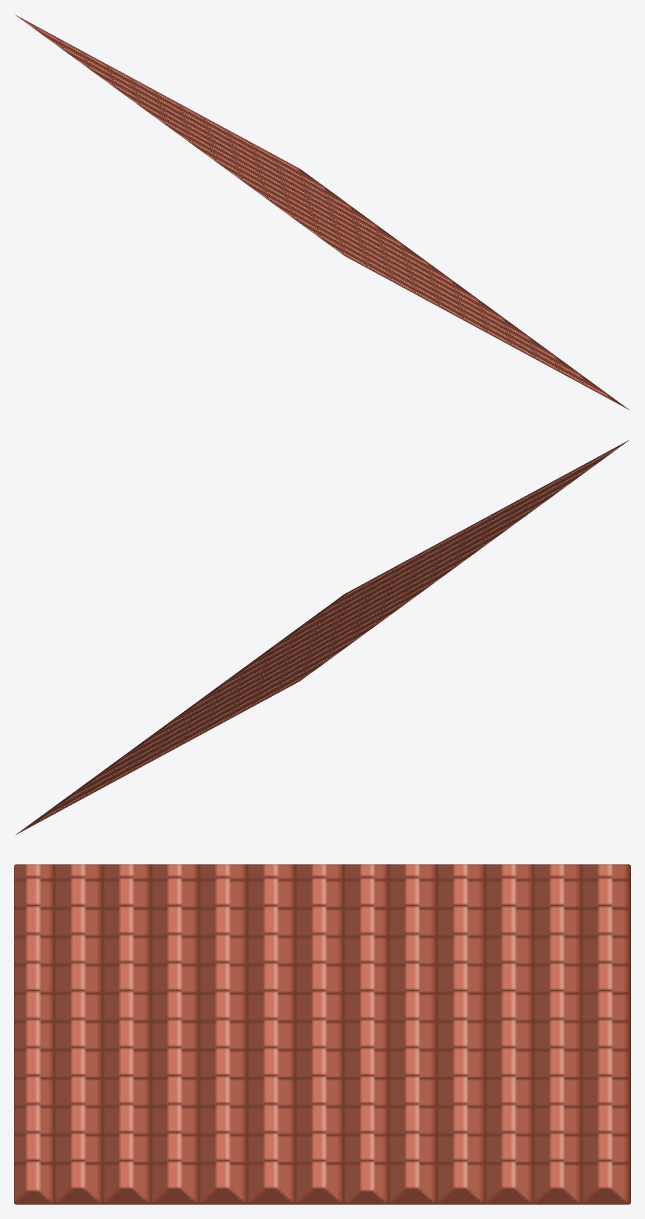
Rendered from TechoBarroInclinado.fbx.
3 renders of one model, top to bottom at view 1: azimuth 30°, elevation 25°; view 2: azimuth 150°, elevation 25°; view 3: azimuth 270°, elevation 25°, orthographic. The views are drawn at different scales.
Visible parts, largest first — view 1: Techo 1; view 2: Techo 1; view 3: Techo 1.
Boxes of the visible parts, left/top/right/bottom form: Techo 1: left=16, top=15, right=628, bottom=409; Techo 1: left=16, top=440, right=628, bottom=834; Techo 1: left=14, top=864, right=630, bottom=1204.
Size of the model in its own units: 150 by 113 by 300.
1 material, 1 textured.
